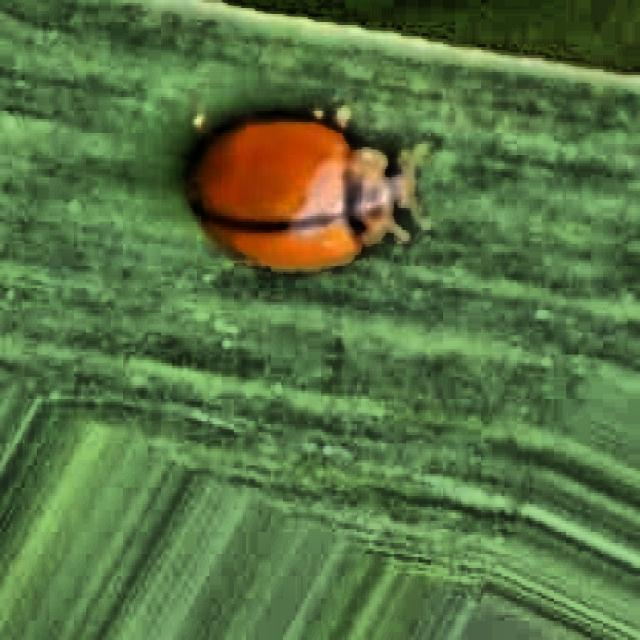Ladybug: (174, 62, 456, 312)
